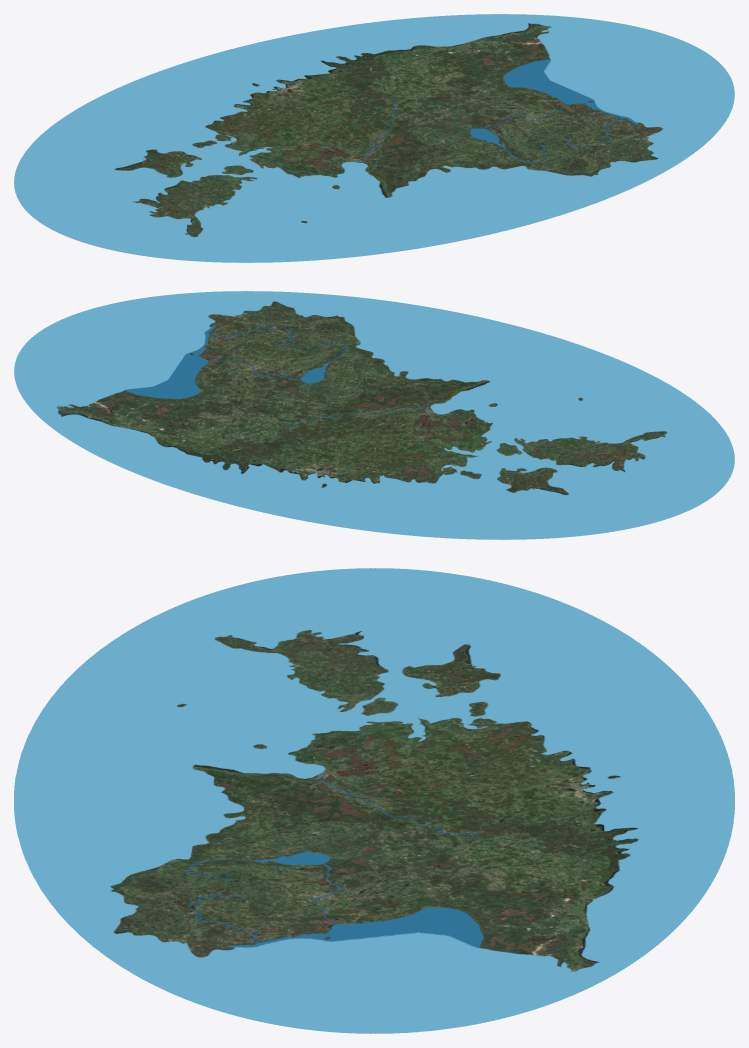
The model's file is EST-previa-terrain.glb.
The picture shows the model from 3 angles, top to bottom: view 1: azimuth 30°, elevation 25°; view 2: azimuth 150°, elevation 25°; view 3: azimuth 270°, elevation 25°; orthographic projection. The views are drawn at different scales.
Parts seen in each view (by area): view 1: Estónia; view 2: Estónia; view 3: Estónia.
Boxes of the visible parts, bbox=[...] form: Estónia: bbox=[14, 14, 734, 262]; Estónia: bbox=[14, 291, 734, 539]; Estónia: bbox=[14, 568, 734, 1033].
Bounding box in the file's own units: 2.38 × 0.00818 × 1.55.
1 material, 1 textured.
